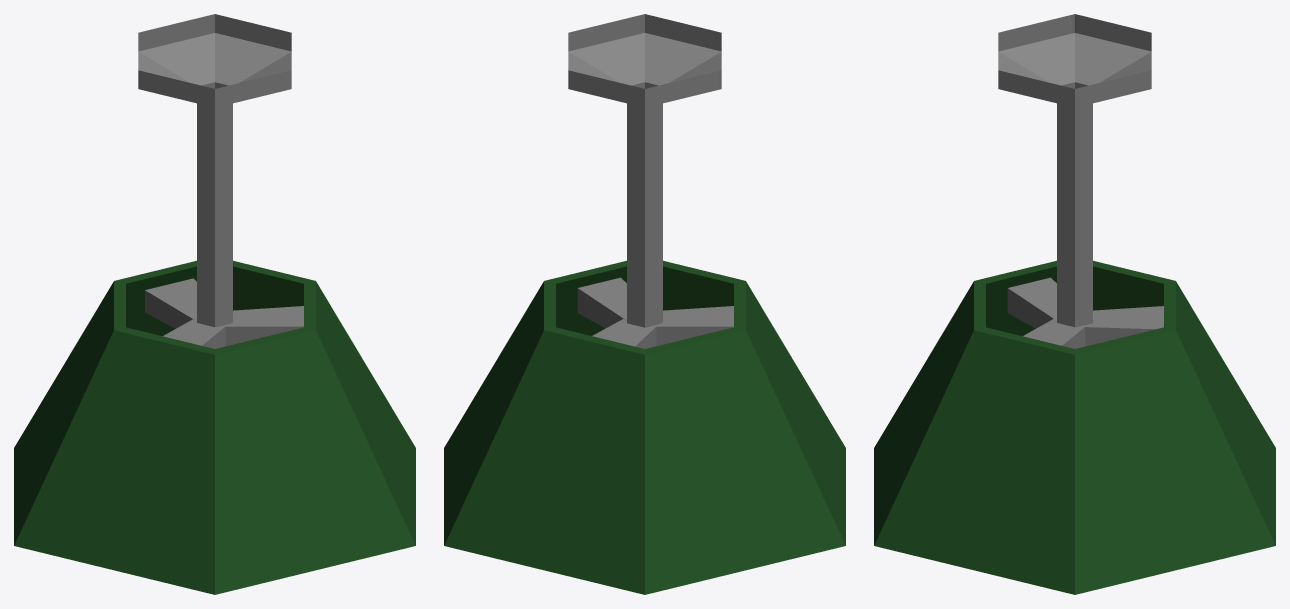
Rendered from kattolamppu_green.FBX.
The picture shows the model from 3 angles, left to right: view 1: azimuth 30°, elevation 25°; view 2: azimuth 150°, elevation 25°; view 3: azimuth 270°, elevation 25°; orthographic projection.
Parts seen in each view (by area): view 1: kattolamppu_green; view 2: kattolamppu_green; view 3: kattolamppu_green.
Boxes of the visible parts, x1,y1,x2,y2 form: kattolamppu_green: (14,14,415,594); kattolamppu_green: (444,14,845,594); kattolamppu_green: (874,14,1275,594).
Bounding box in the file's own units: 136 × 144 × 118.
